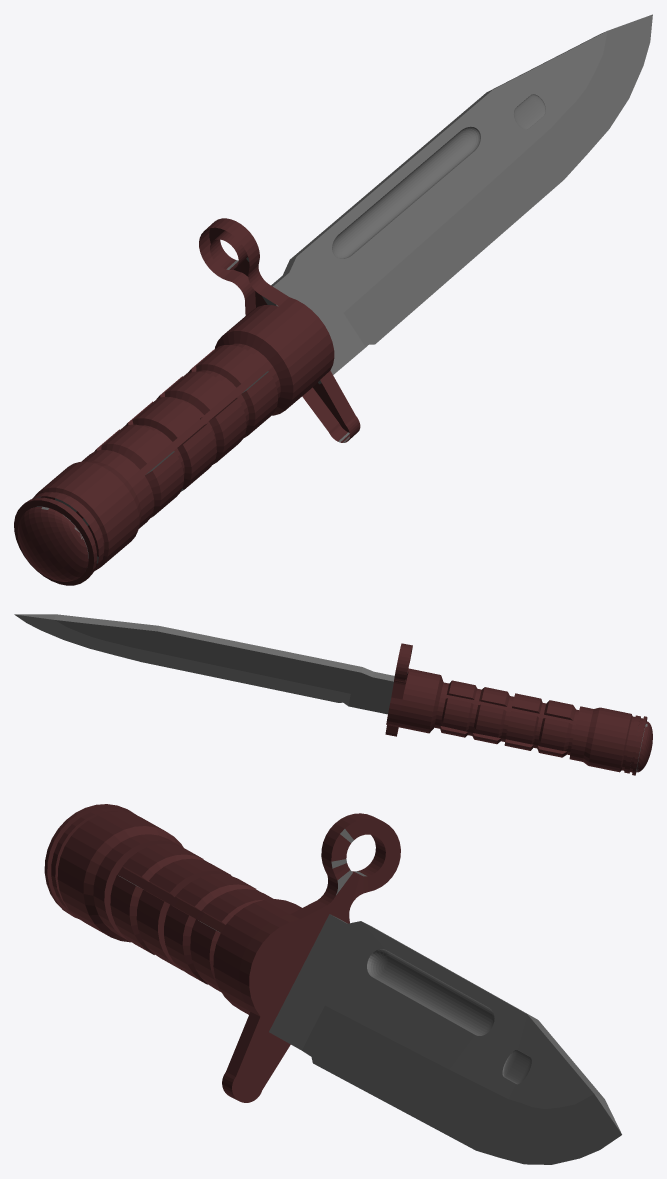
File: Cuchillo.fbx
3 views of the same model, one above another, from view 1: azimuth 30°, elevation 25°; view 2: azimuth 150°, elevation 25°; view 3: azimuth 270°, elevation 25° (orthographic). The views are drawn at different scales.
Visible parts, largest first — view 1: Esfera; view 2: Esfera; view 3: Esfera.
Boxes of the visible parts, <box> form: Esfera: <box>14,14,652,585</box>; Esfera: <box>14,614,652,775</box>; Esfera: <box>44,804,621,1164</box>.
Bounding box in the file's own units: 7.89 × 2.02 × 3.87.
